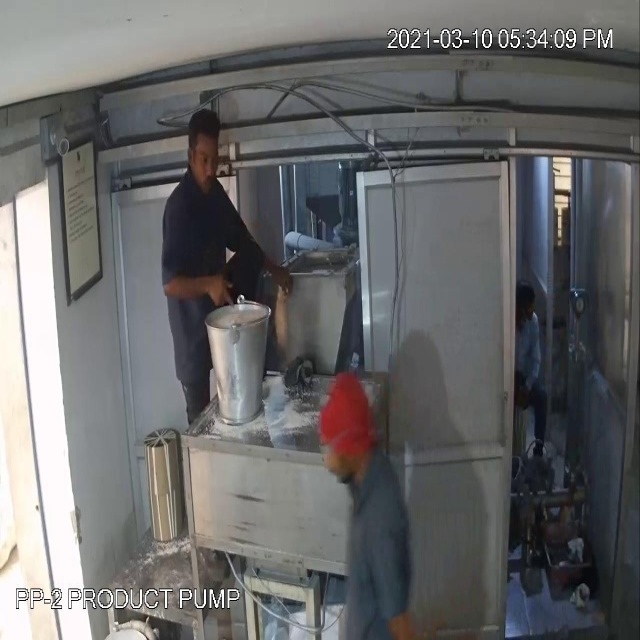Sin_guantes: (156, 260, 244, 335), (252, 234, 308, 320)
